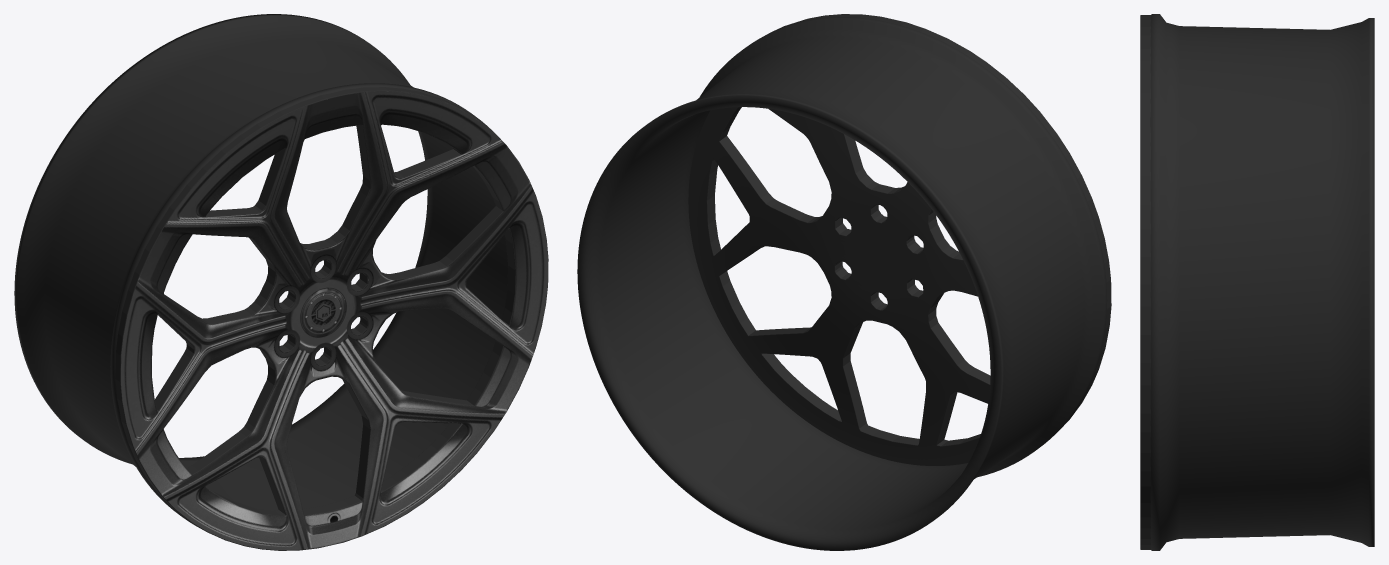
The model's file is e6-monoblock-u57.glb.
3 views of the same model, side by side, from view 1: azimuth 30°, elevation 25°; view 2: azimuth 150°, elevation 25°; view 3: azimuth 270°, elevation 25° (orthographic). The views are drawn at different scales.
Parts seen in each view (by area): view 1: Photo_traced_face_0, Approximate_rear_barrel; view 2: Approximate_rear_barrel, Photo_traced_face_0; view 3: Approximate_rear_barrel, Photo_traced_face_0.
Boxes of the visible parts, x1,y1,x2,y2 form: Photo_traced_face_0: (115, 87, 548, 550); Approximate_rear_barrel: (14, 14, 507, 529); Approximate_rear_barrel: (577, 17, 1107, 550); Photo_traced_face_0: (688, 14, 1111, 465); Approximate_rear_barrel: (1150, 14, 1374, 550); Photo_traced_face_0: (1140, 15, 1150, 549).
Bounding box in the file's own units: 2.06 × 2.06 × 0.9.
Materials: 2 (1 with a texture image).
